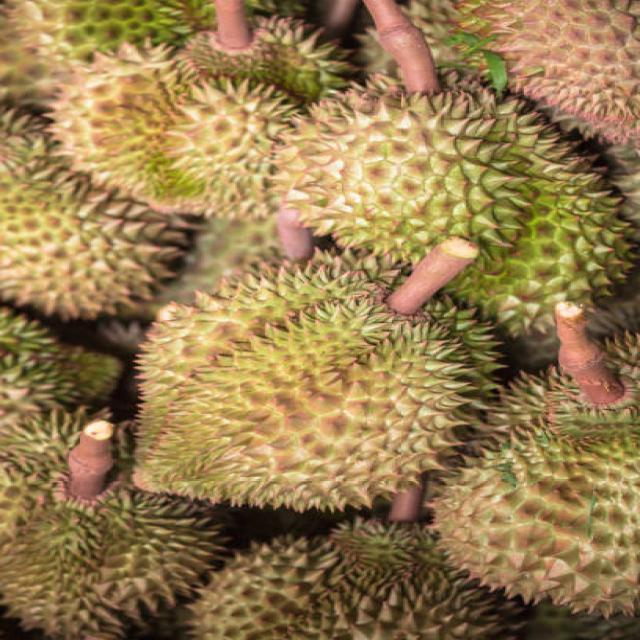mature: (278, 79, 630, 333), (135, 255, 472, 511), (433, 335, 639, 614), (52, 45, 296, 216)
